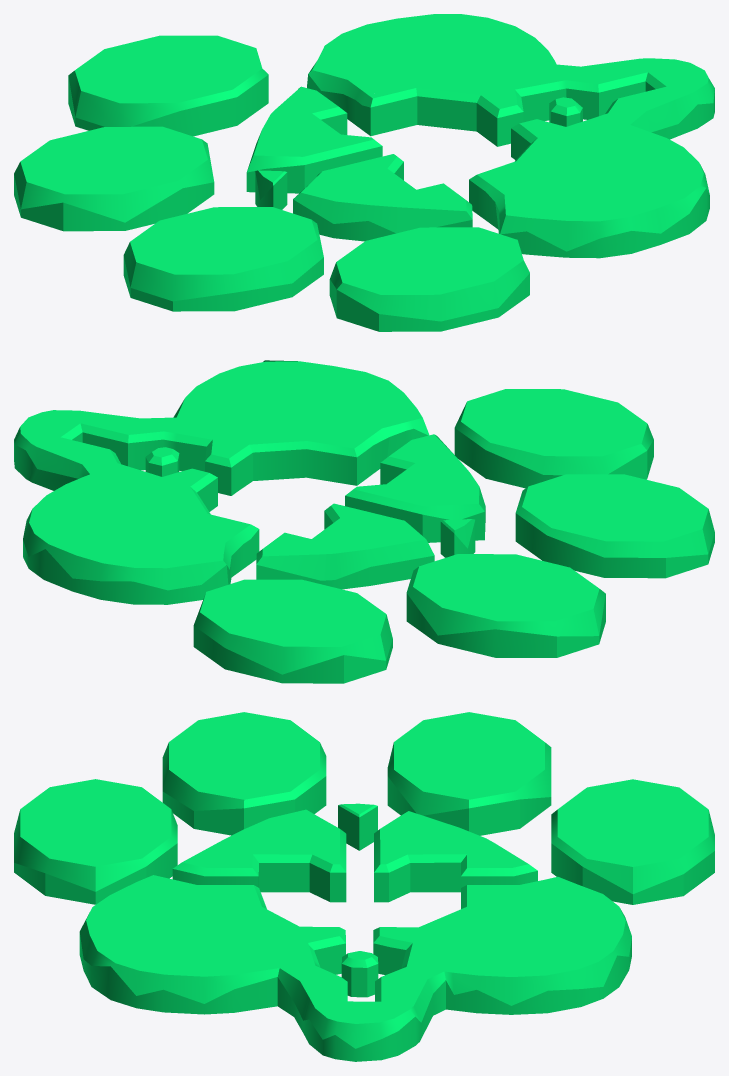
The picture shows the model from 3 angles, top to bottom: view 1: azimuth 30°, elevation 25°; view 2: azimuth 150°, elevation 25°; view 3: azimuth 270°, elevation 25°; orthographic projection. The views are drawn at different scales.
Visible parts, largest first — view 1: Base; view 2: Base; view 3: Base.
Part boxes in pixels (x1=…): Base: x1=14, y1=14, x2=714, y2=331; Base: x1=14, y1=360, x2=714, y2=683; Base: x1=14, y1=712, x2=714, y2=1061.
Size of the model in its own units: 15286 by 789 by 14259.
